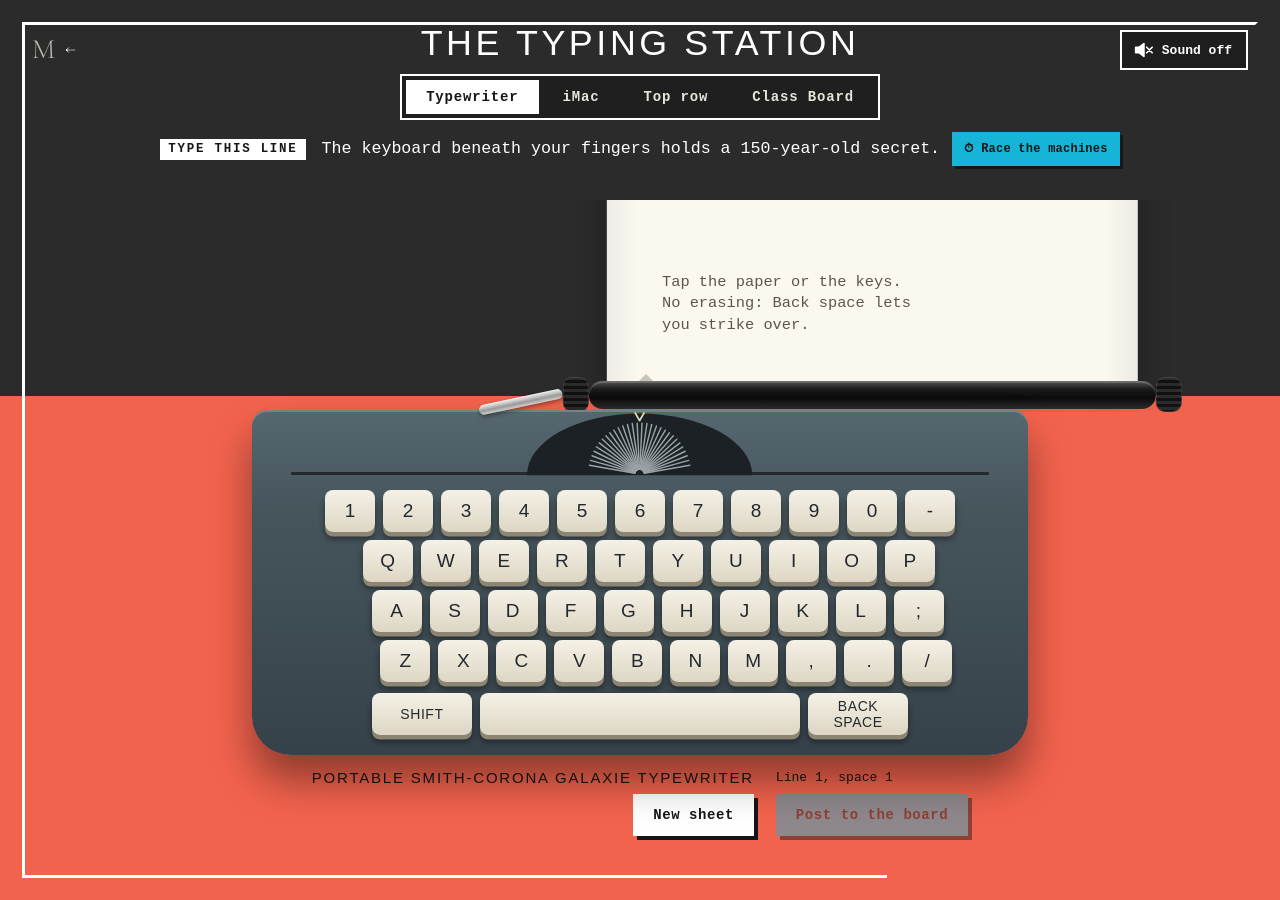
Test: the teacher’s prompt (B3) › moderates the teacher’s text as it moderates a message
Click the tab "Class Board" at (803, 97), box [732,80,874,114]
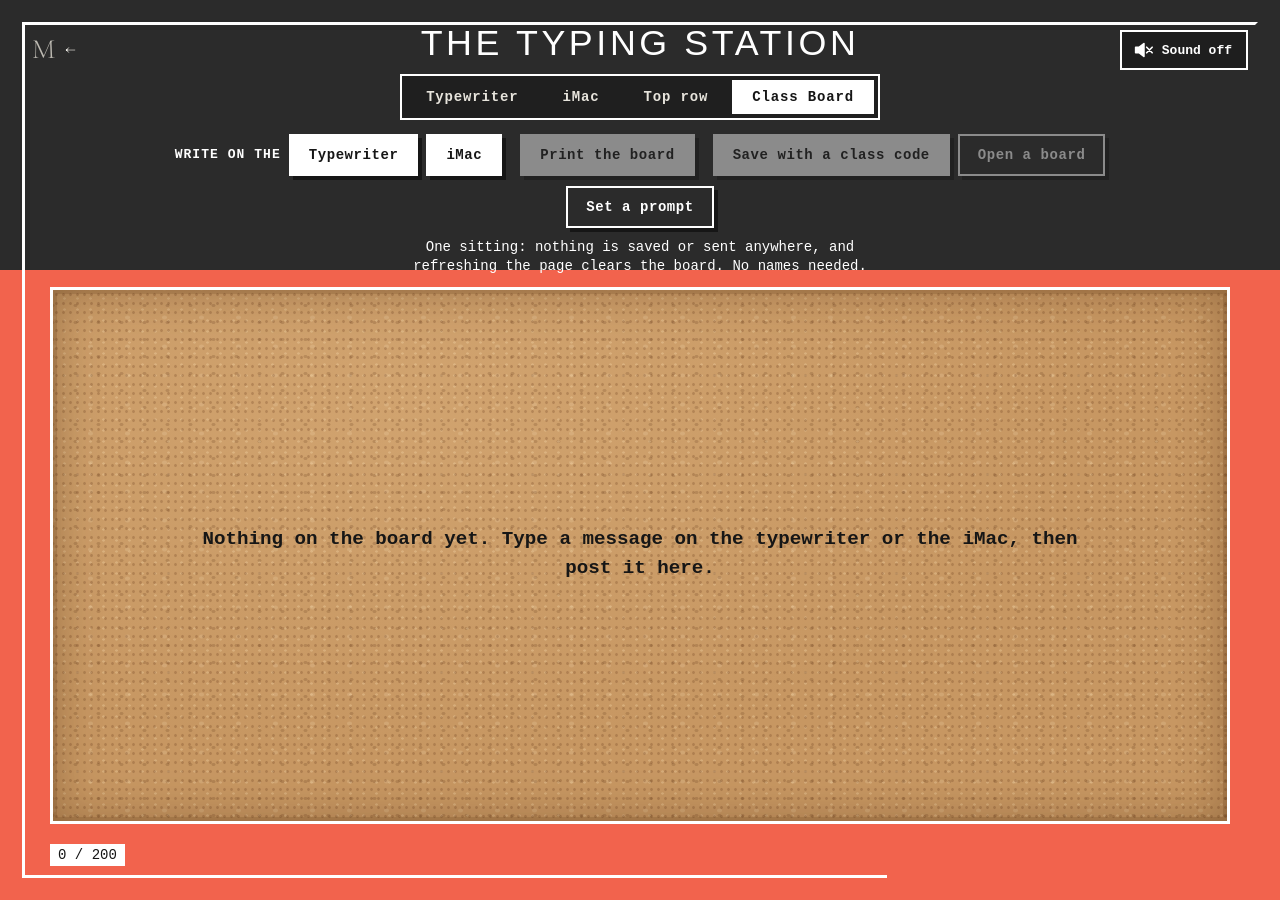
Click the button "Set a prompt" at (640, 207), box [566,186,714,228]
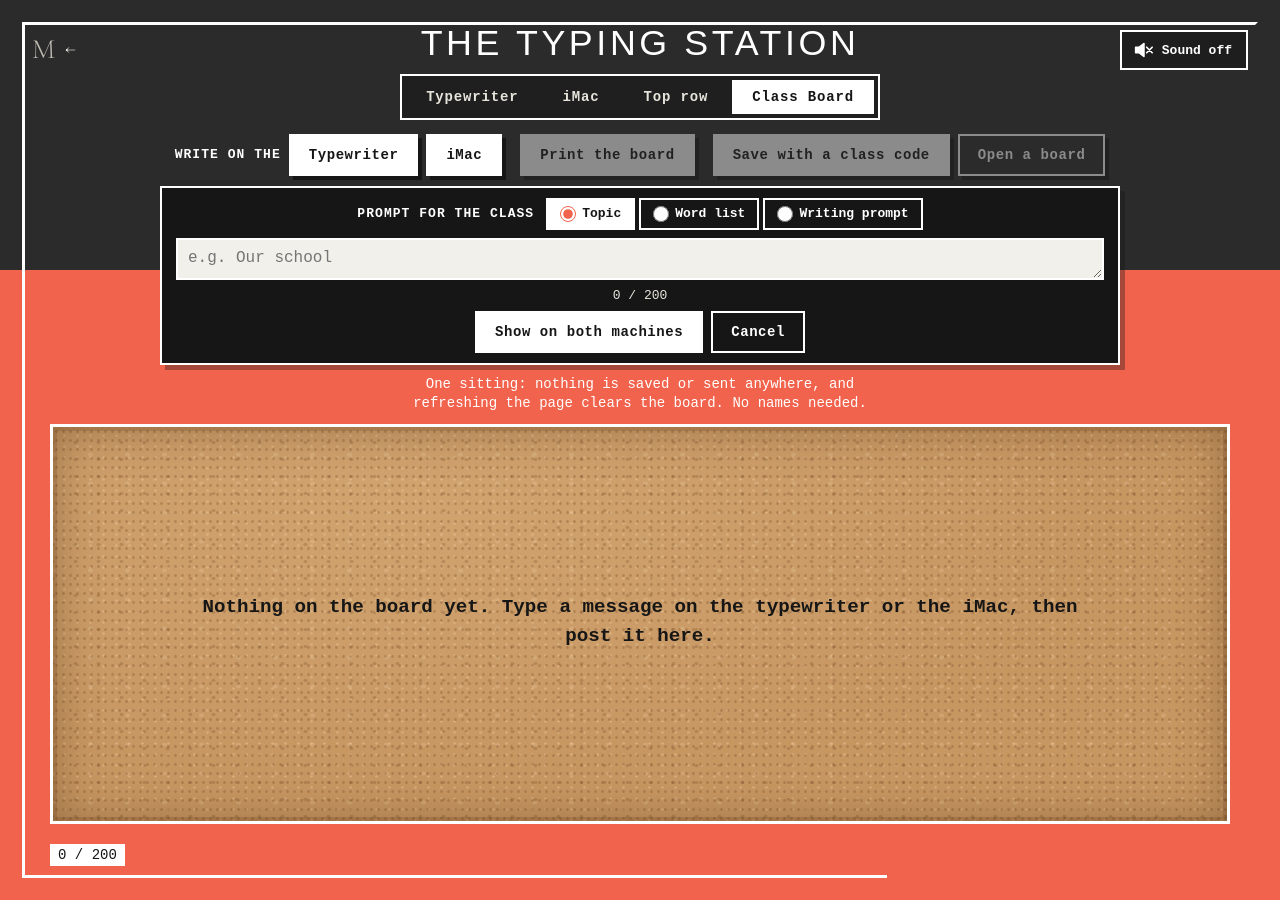
Type "see www.example.com" into the text box named "The prompt" at (640, 259), box [176,238,1104,280]
Click the button "Show on both machines" at (589, 332), box [475,311,703,353]
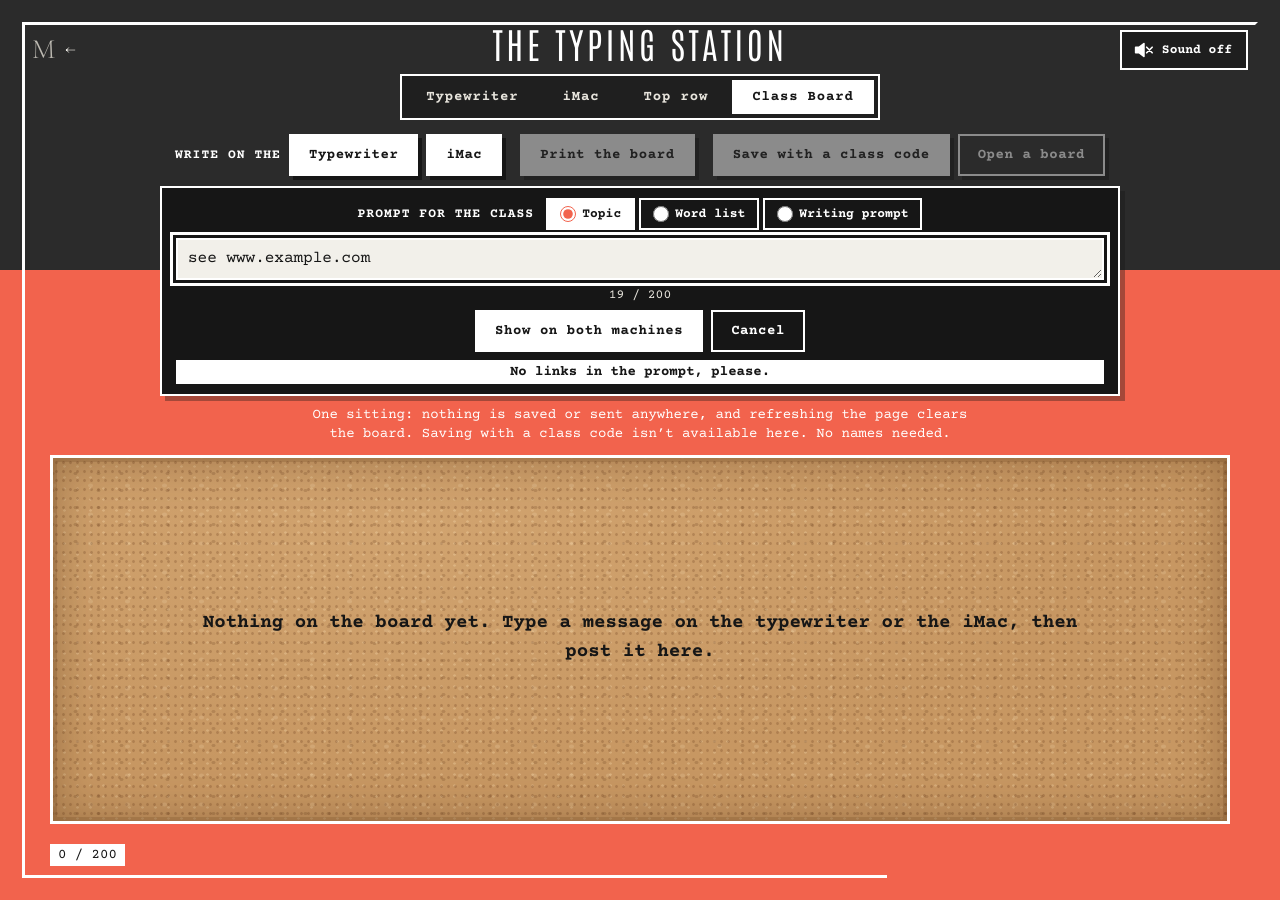
Check: the message reads "No links in the prompt, please.", box [510,364,770,380]
Replace the text in the text box named "The prompt" with "sh1t" at (640, 259), box [176,238,1104,280]
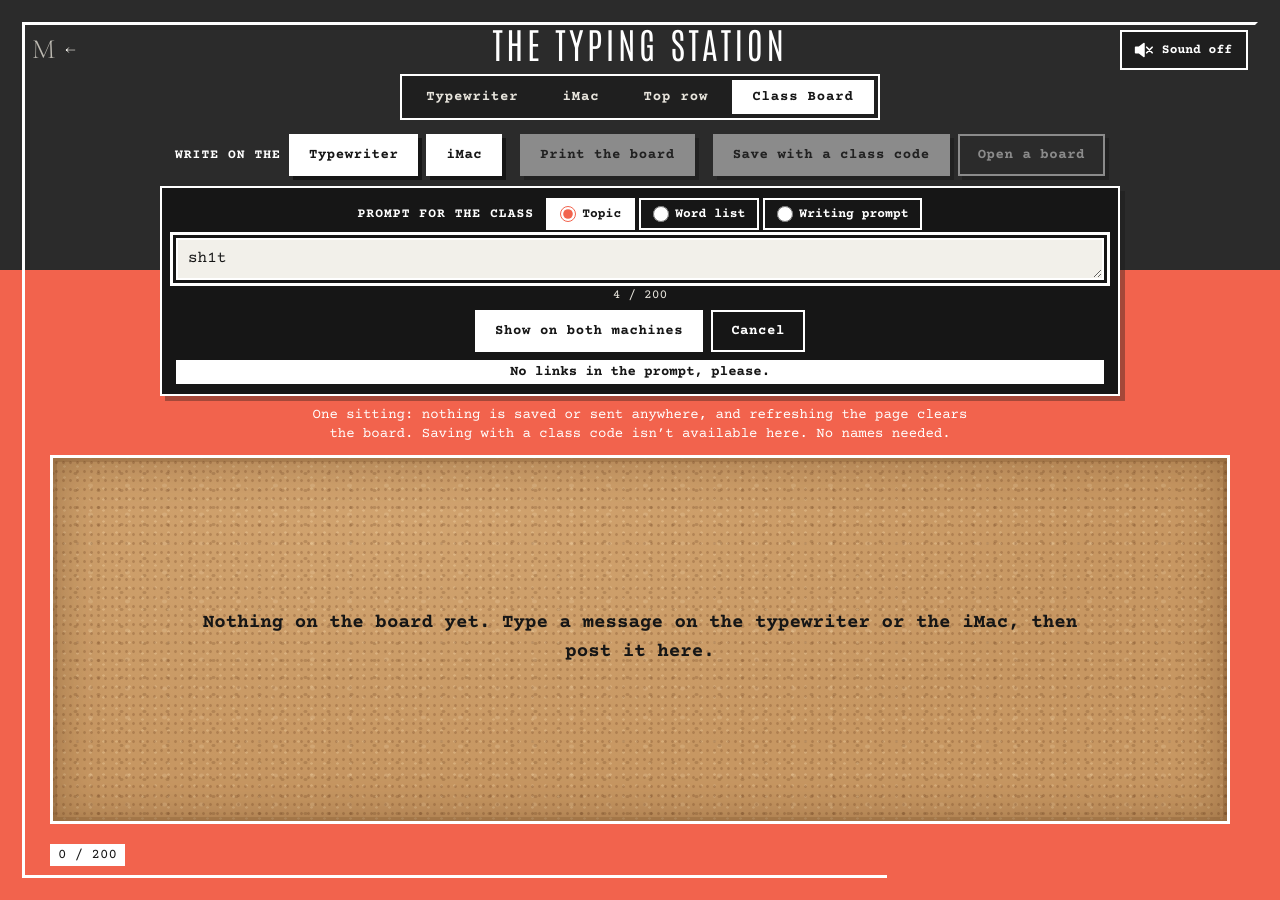
Click the button "Show on both machines" at (589, 331), box [475,310,703,352]
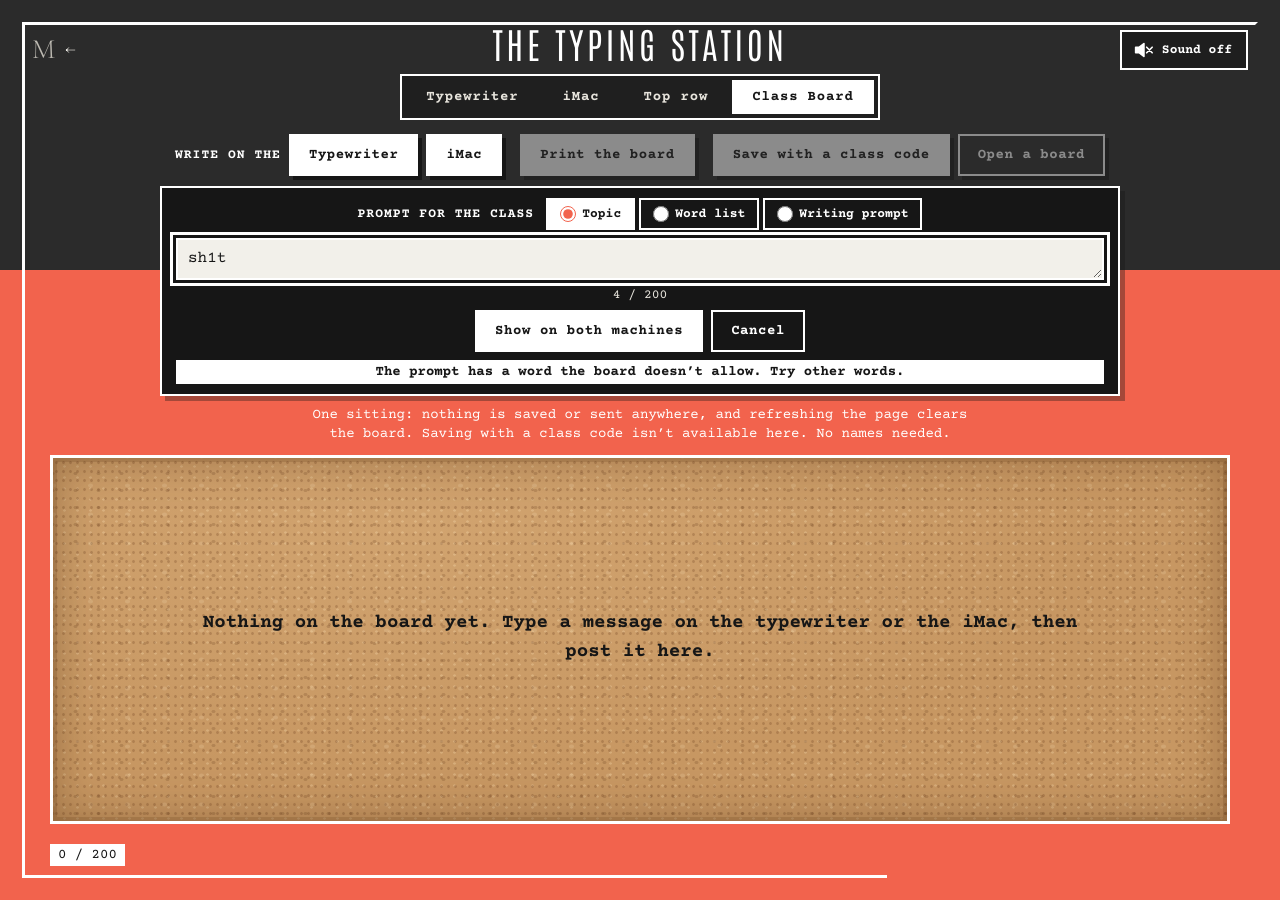
Check: the message shows "The prompt has a word the board doesn’t allow.", box [376,364,904,380]
Click the tab "Typewriter" at (472, 97), box [406,80,539,114]
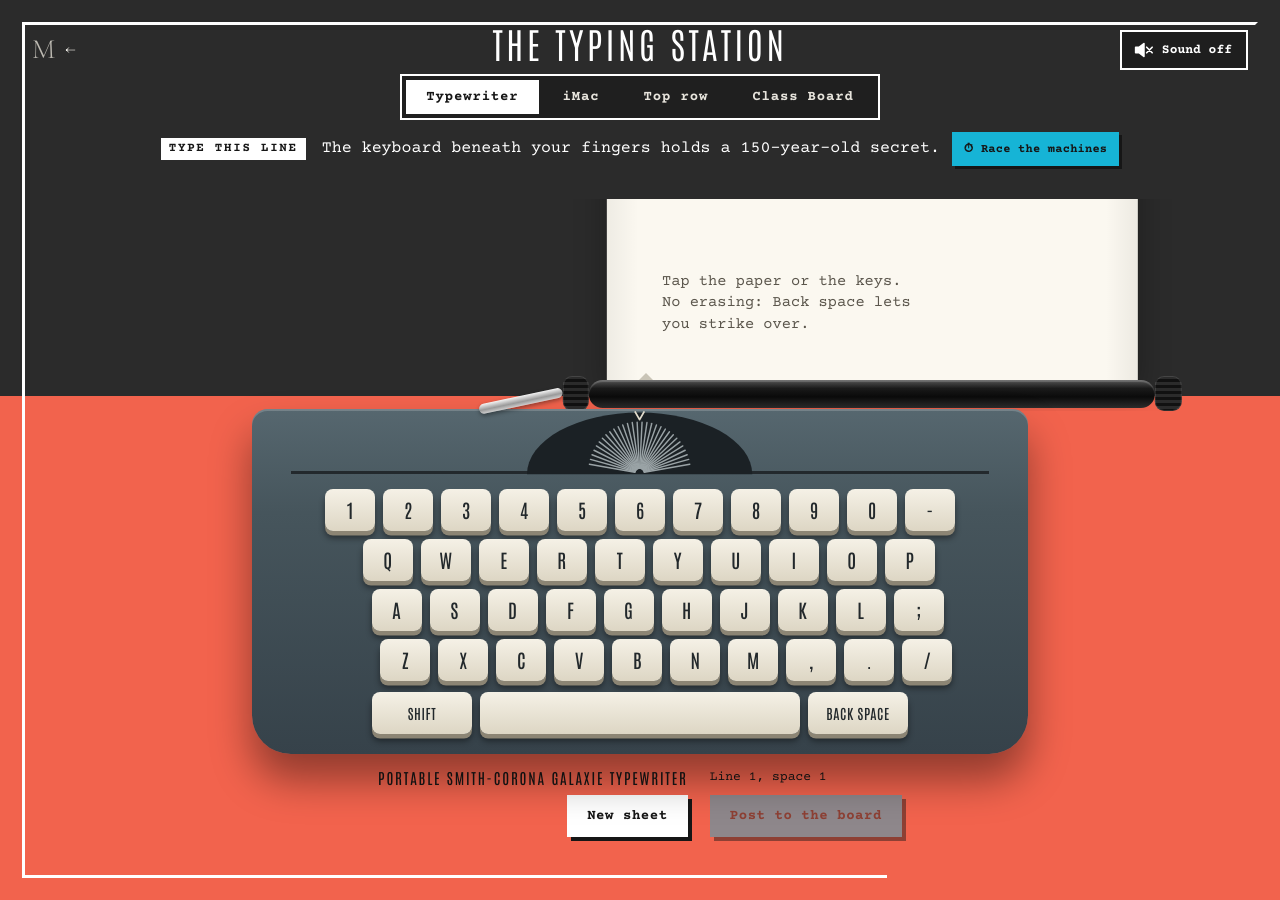
Check: the text "The keyboard beneath your fingers holds a 150-year-old secret." is shown, box [322,139,940,158]
